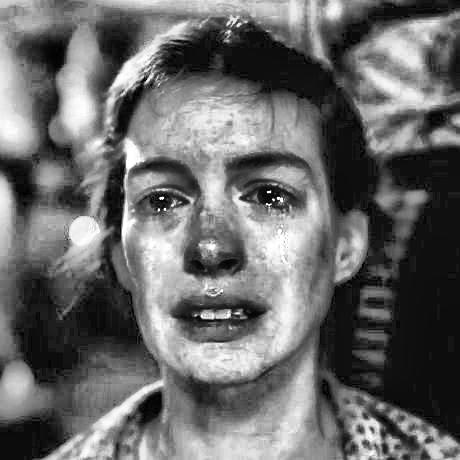sad: (118, 104, 335, 383)
